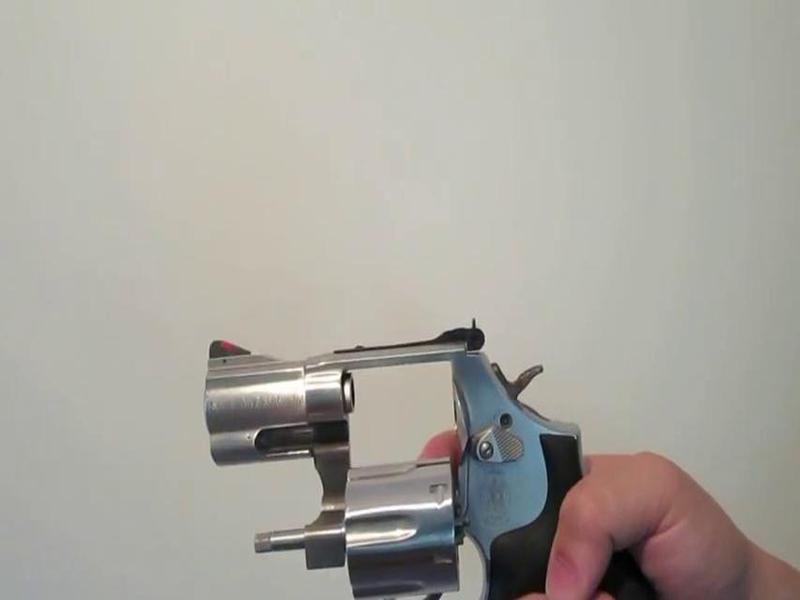Revolver: (168, 308, 617, 600)
